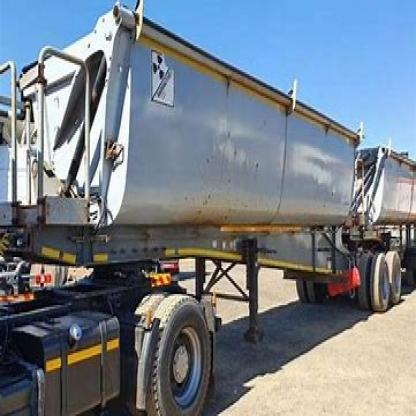dump_truck: (10, 11, 415, 394)
